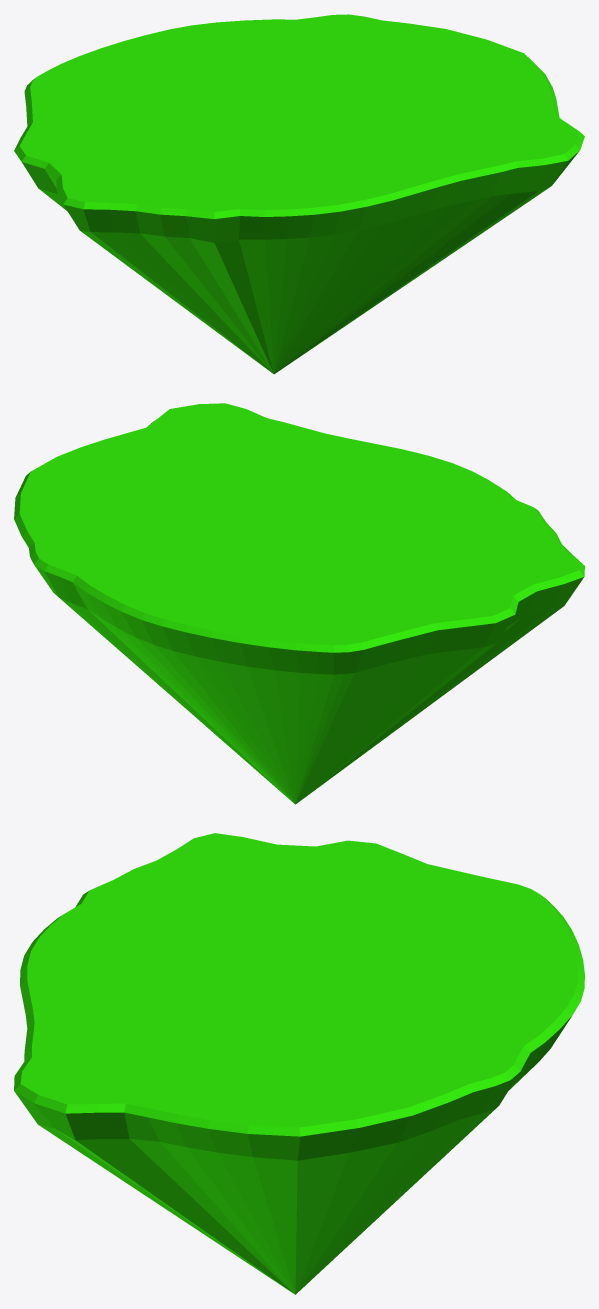
File: land.glb
The picture shows the model from 3 angles, top to bottom: view 1: azimuth 30°, elevation 25°; view 2: azimuth 150°, elevation 25°; view 3: azimuth 270°, elevation 25°; orthographic projection. The views are drawn at different scales.
Visible parts, largest first — view 1: Plane; view 2: Plane; view 3: Plane.
Boxes of the visible parts, x1,y1,x2,y2 form: Plane: (14,14,584,374); Plane: (14,403,584,804); Plane: (14,833,584,1294).
Bounding box in the file's own units: 17.56 × 8.69 × 14.12.
